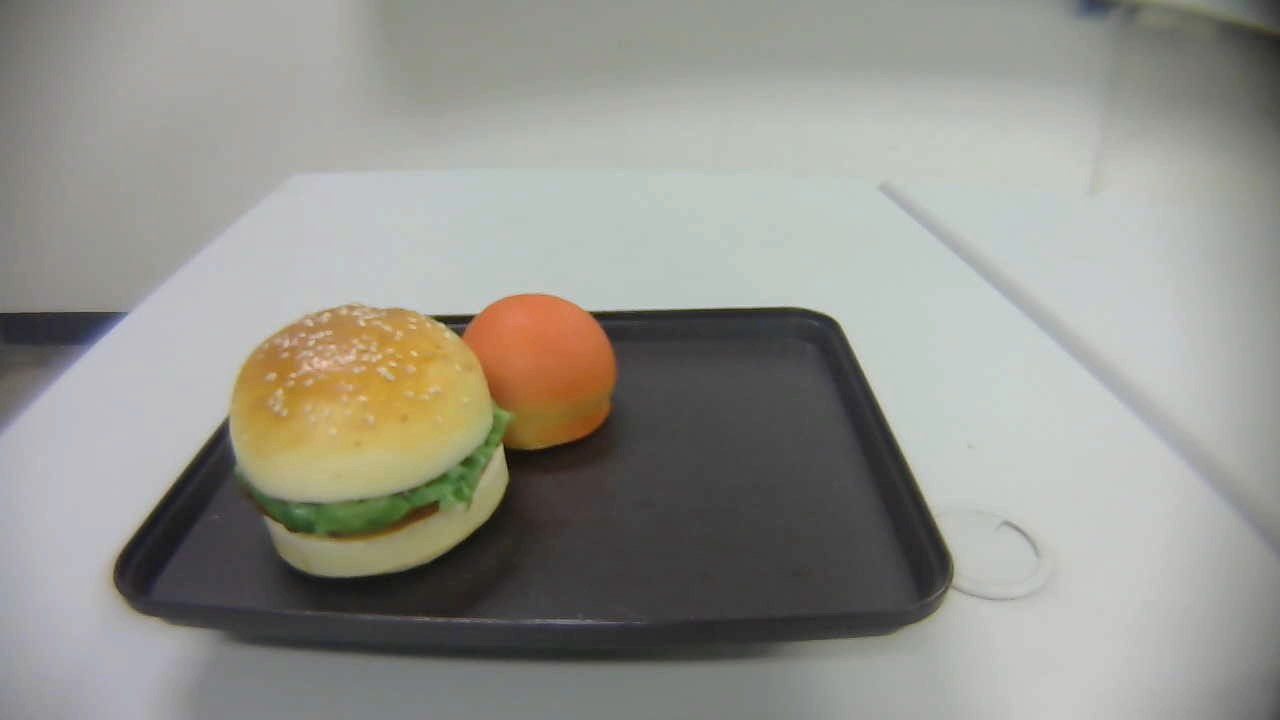bun: (463, 293, 619, 451)
hamburger: (229, 304, 509, 581)
